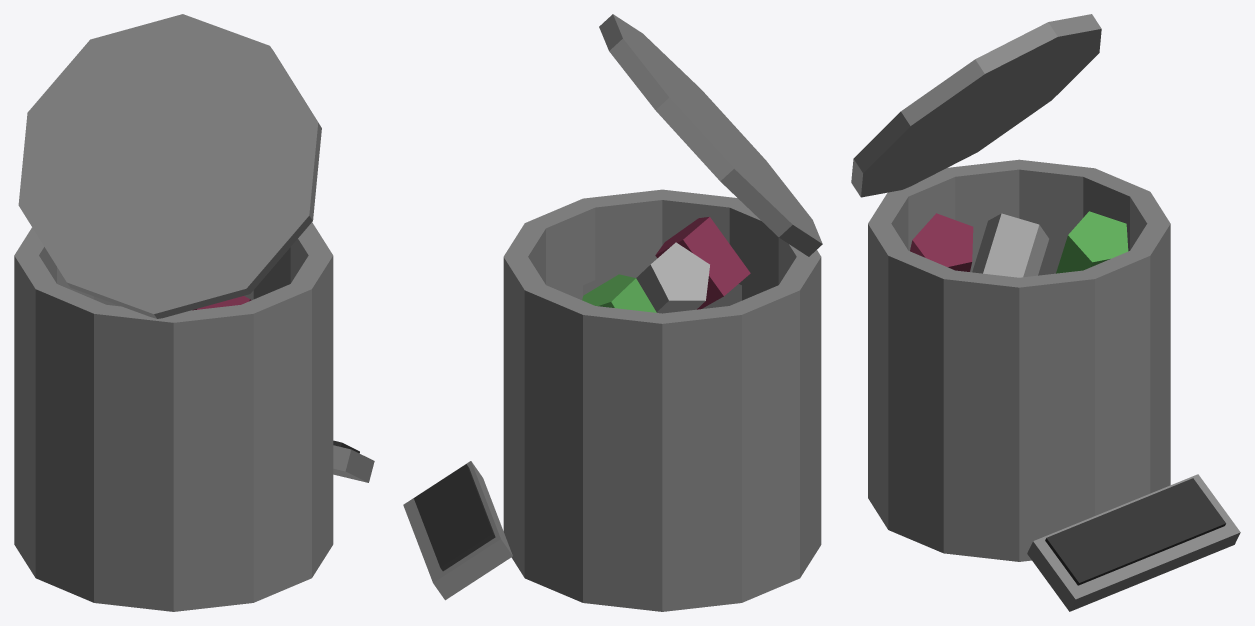
The model's file is trashcan2.fbx.
The picture shows the model from 3 angles, left to right: view 1: azimuth 30°, elevation 25°; view 2: azimuth 150°, elevation 25°; view 3: azimuth 270°, elevation 25°; orthographic projection. The views are drawn at different scales.
Parts seen in each view (by area): view 1: pCylinder1, pCylinder2, pCube5; view 2: pCylinder1, pCylinder2, pCube6, pCube5, pCylinder4, pCylinder3, pCylinder5; view 3: pCylinder1, pCylinder2, pCube6, pCube5, pCylinder4, pCylinder5, pCylinder3.
Boxes of the visible parts, x1,y1,x2,y2 form: pCylinder1: (14, 222, 333, 611); pCylinder2: (18, 14, 321, 318); pCube5: (333, 445, 374, 482); pCylinder1: (503, 189, 821, 611); pCylinder2: (599, 14, 822, 256); pCube6: (414, 464, 495, 571); pCube5: (403, 461, 512, 600); pCylinder4: (636, 242, 709, 313); pCylinder3: (655, 216, 750, 309); pCylinder5: (582, 274, 656, 312); pCylinder1: (868, 159, 1170, 561); pCylinder2: (851, 14, 1101, 197); pCube6: (1045, 478, 1225, 585); pCube5: (1027, 474, 1240, 611); pCylinder4: (972, 213, 1048, 277); pCylinder5: (1056, 211, 1128, 273); pCylinder3: (910, 213, 973, 271).
Bounding box in the file's own units: 1.55 × 2.08 × 1.47.
